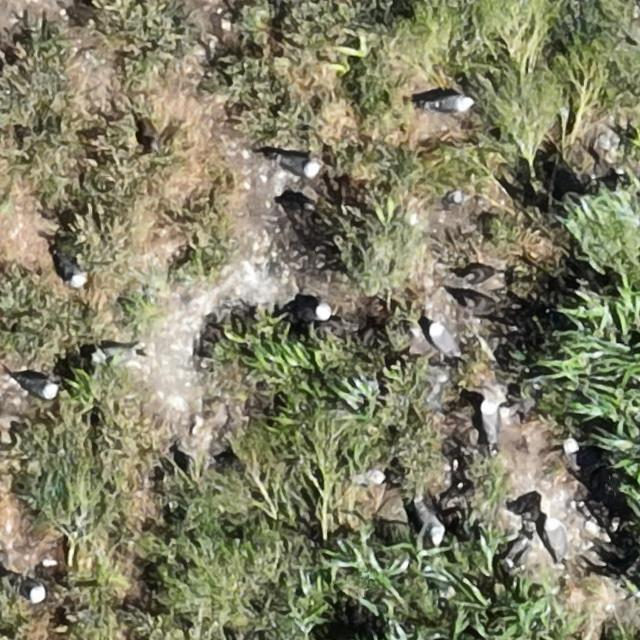umineko: (418, 496, 445, 546), (291, 302, 333, 327), (430, 324, 459, 357), (15, 375, 57, 397), (280, 156, 319, 177), (482, 401, 501, 444), (546, 519, 565, 560), (430, 94, 472, 112), (355, 467, 387, 488), (62, 259, 84, 286), (24, 581, 46, 604), (564, 439, 580, 470)
